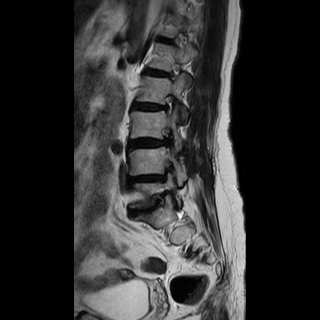LFS1: (156, 88, 179, 118)
LFS3: (155, 124, 180, 157)
